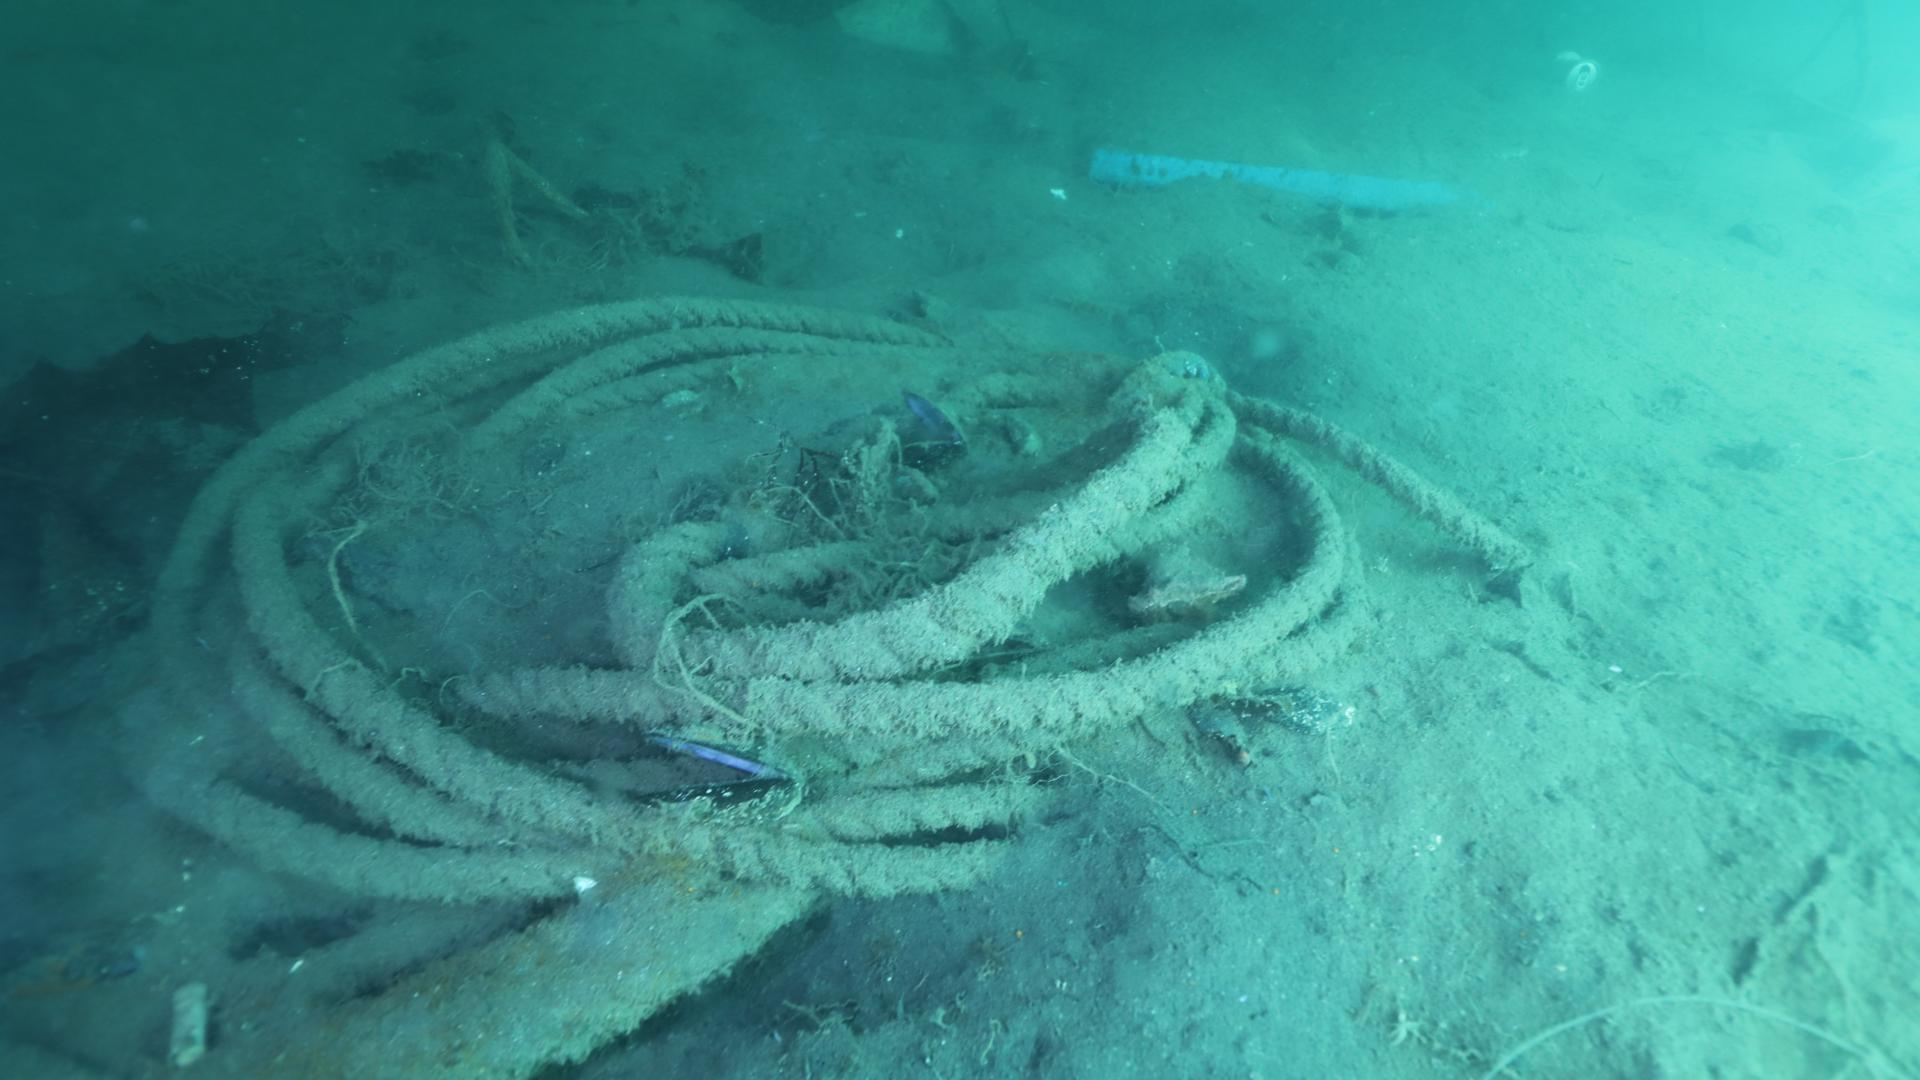bundle of ropes: (120, 291, 1528, 891)
